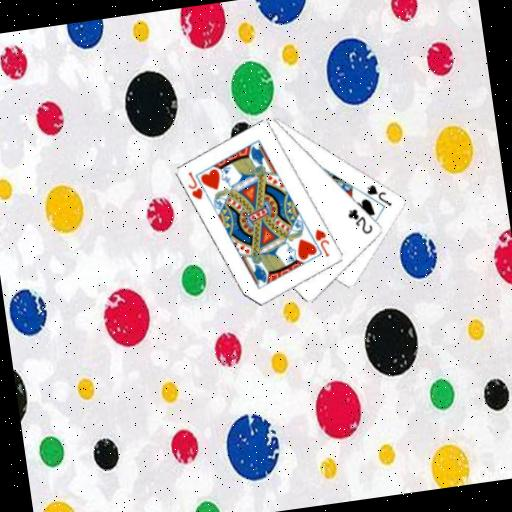2C: (344, 203, 375, 238)
JH: (183, 168, 206, 203), (311, 224, 333, 260)
JS: (363, 179, 394, 211)
